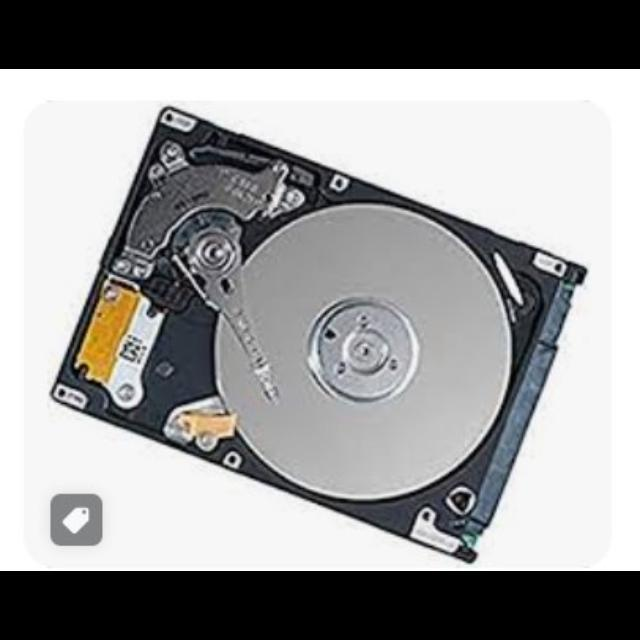HDD: (50, 107, 588, 564)
